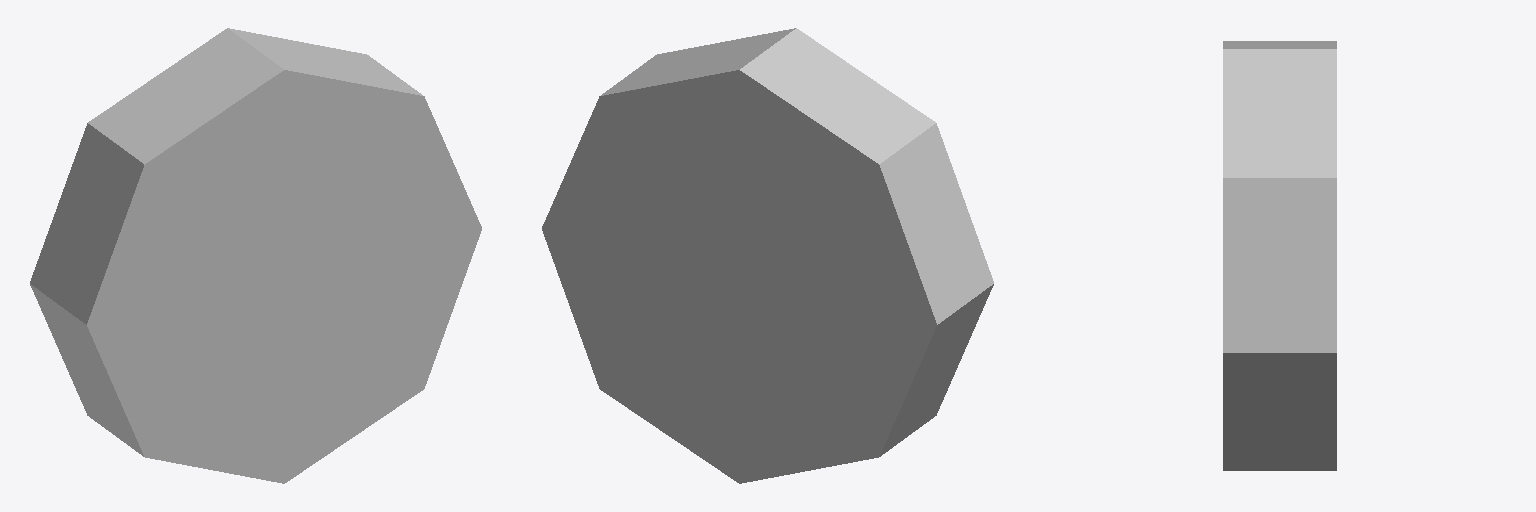
Rendered from rueda-1.obj.
3 views of the same model, side by side, from view 1: azimuth 30°, elevation 25°; view 2: azimuth 150°, elevation 25°; view 3: azimuth 270°, elevation 25° (orthographic).
Size of the model in its own units: 2 by 2 by 0.5.